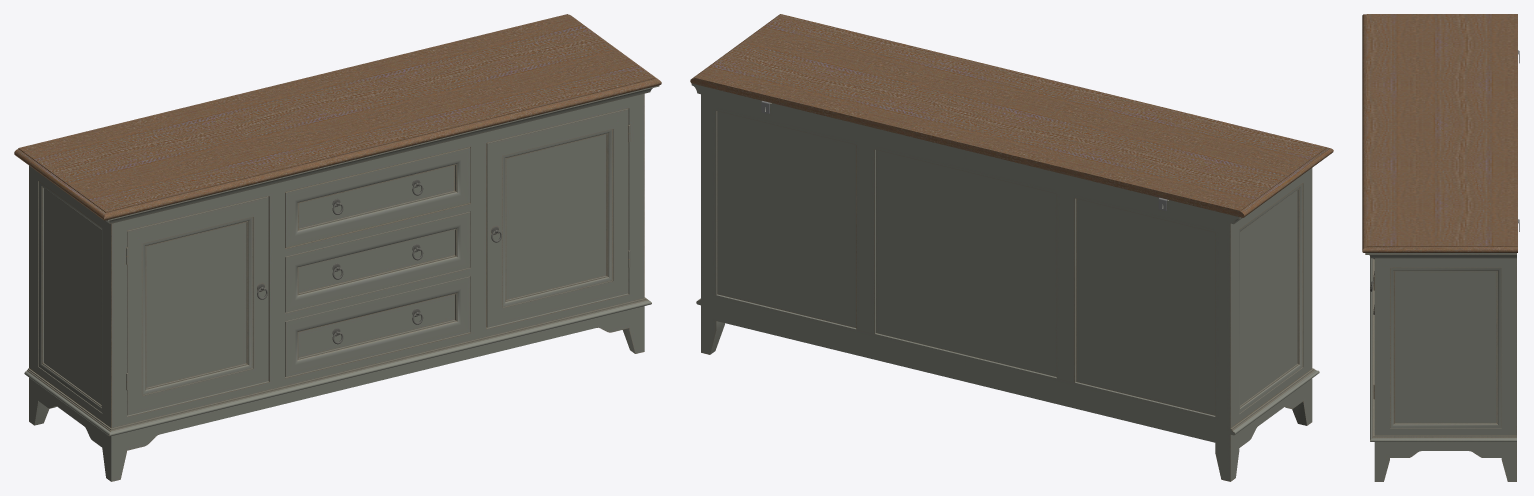
Rendered from example128.gltf.
3 renders of one model, left to right at view 1: azimuth 30°, elevation 25°; view 2: azimuth 150°, elevation 25°; view 3: azimuth 270°, elevation 25°, orthographic. The views are drawn at different scales.
Size of the model in its own units: 180 by 85 by 50.74.
4 materials, 3 textured.
